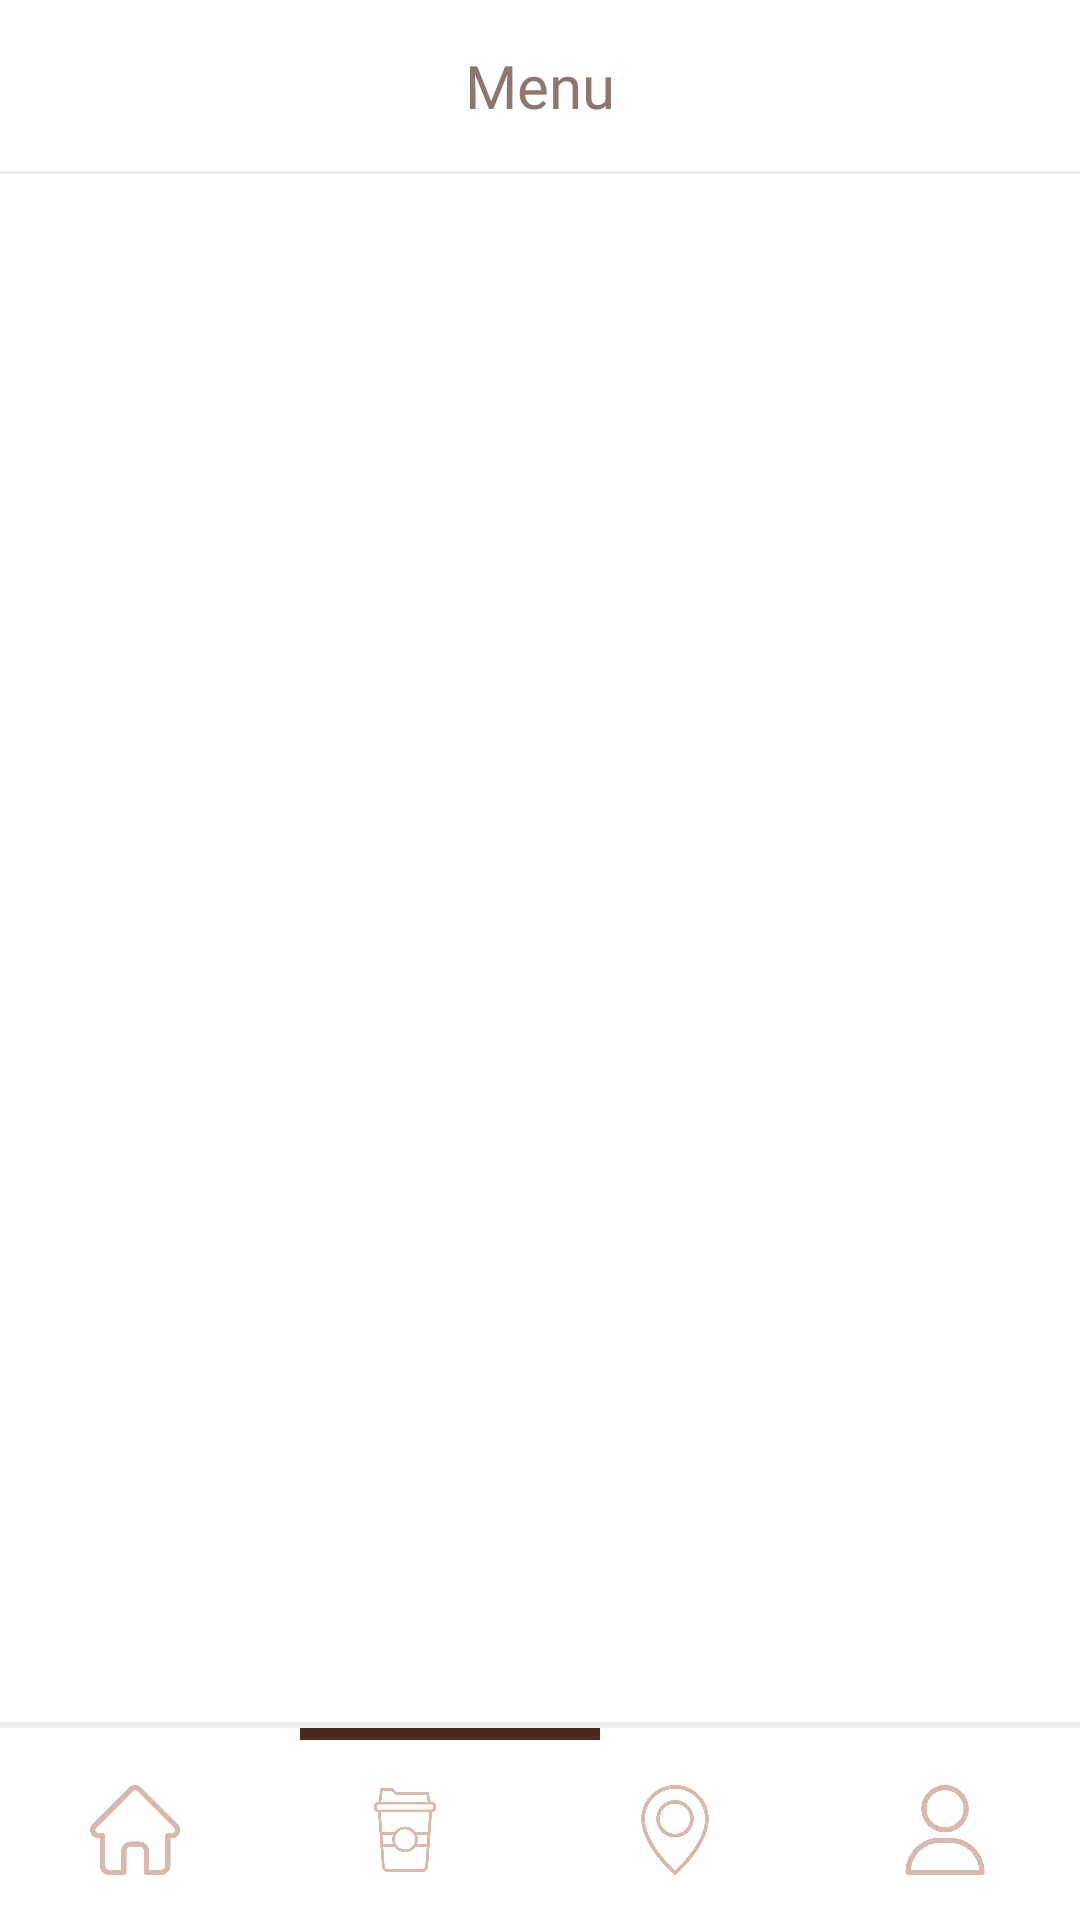

Screen size 1080×1920. Icon name, then its box in pixels as (x1, y1, x2, y2):
coffee: (374, 1788, 436, 1872)
home: (90, 1785, 180, 1875)
location: (641, 1785, 709, 1875)
user: (905, 1785, 985, 1875)
